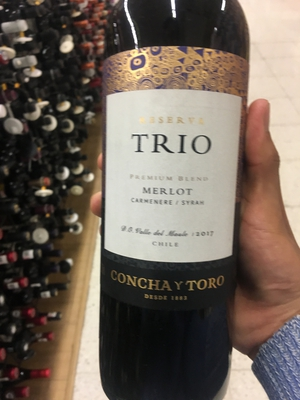trio merlot: (94, 17, 247, 373)
